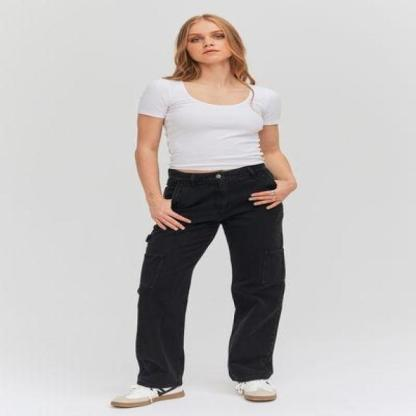person: (112, 12, 296, 412)
